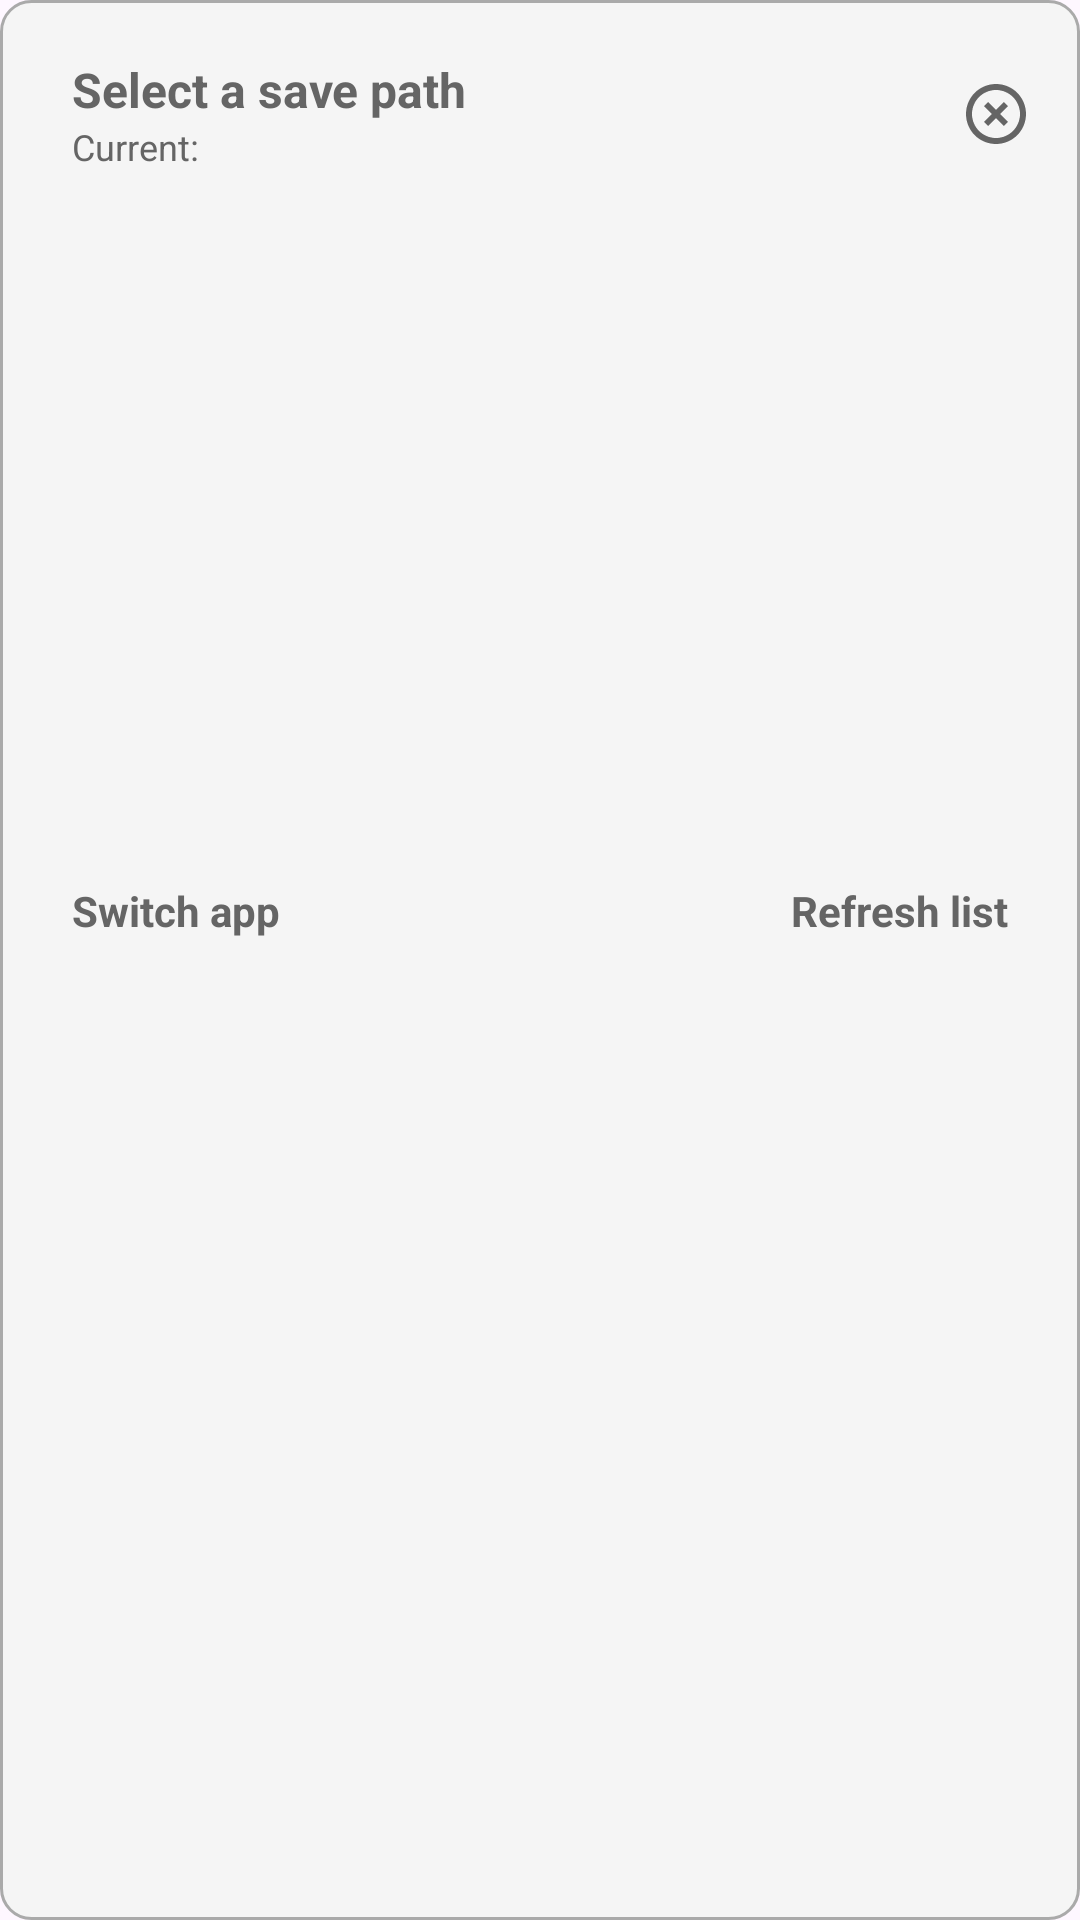

Point at icon controls on the screen. Image size 1080*1920, points as (x=x, y=y).
failure: (x=996, y=114)
